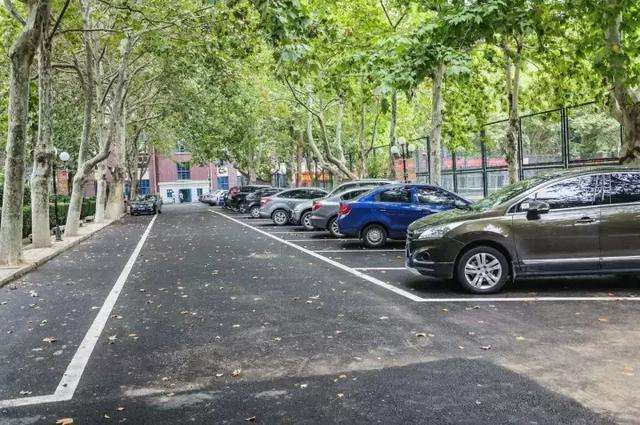slot_nocar: (2, 205, 163, 414)
